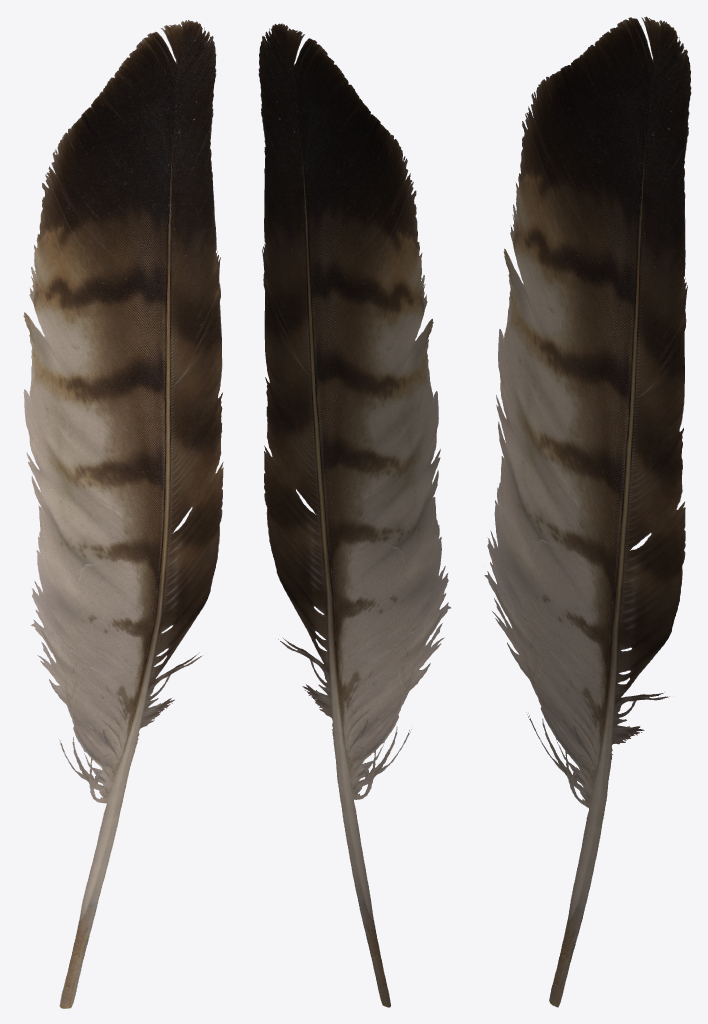
Rendered from feather_quill.fbx.
3 renders of one model, left to right at view 1: azimuth 30°, elevation 25°; view 2: azimuth 150°, elevation 25°; view 3: azimuth 330°, elevation 25°, orthographic. The views are drawn at different scales.
Visible parts, largest first — view 1: eagle feather; view 2: eagle feather; view 3: eagle feather.
Boxes of the visible parts, left/top/right/bottom form: eagle feather: left=23, top=20, right=223, bottom=1008; eagle feather: left=258, top=23, right=450, bottom=1007; eagle feather: left=484, top=16, right=691, bottom=1007.
Bounding box in the file's own units: 21.51 × 100 × 3.54.
